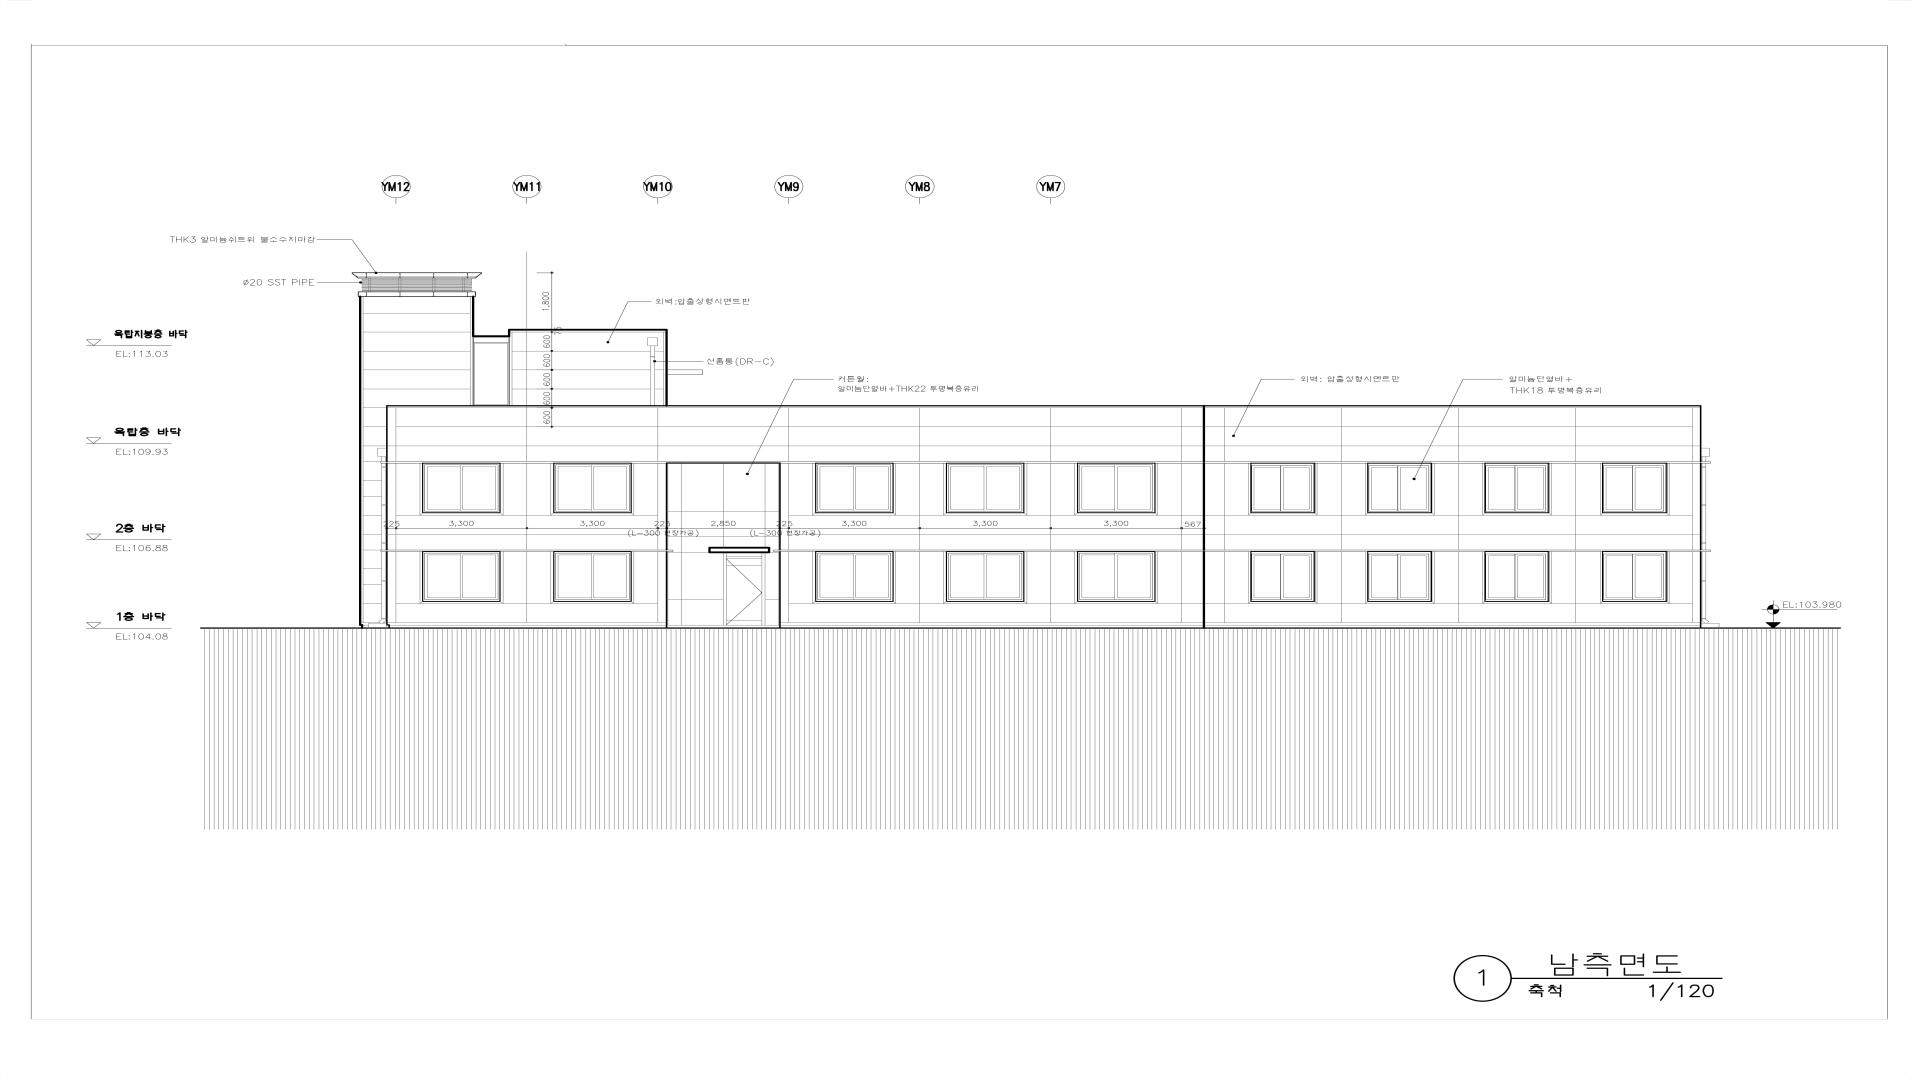door: (723, 554, 765, 625)
wall: (351, 273, 1710, 629)
window: (422, 551, 501, 603), (422, 463, 501, 513), (815, 463, 894, 513), (945, 463, 1025, 513), (815, 551, 894, 601), (945, 551, 1025, 601), (554, 463, 632, 513), (554, 551, 632, 601), (1077, 463, 1155, 513), (1077, 551, 1155, 601), (1250, 551, 1316, 601), (1250, 463, 1316, 513), (1367, 551, 1432, 601), (1485, 551, 1549, 601), (1485, 463, 1549, 513), (1367, 463, 1432, 513), (1602, 463, 1667, 513), (1602, 551, 1667, 601)
